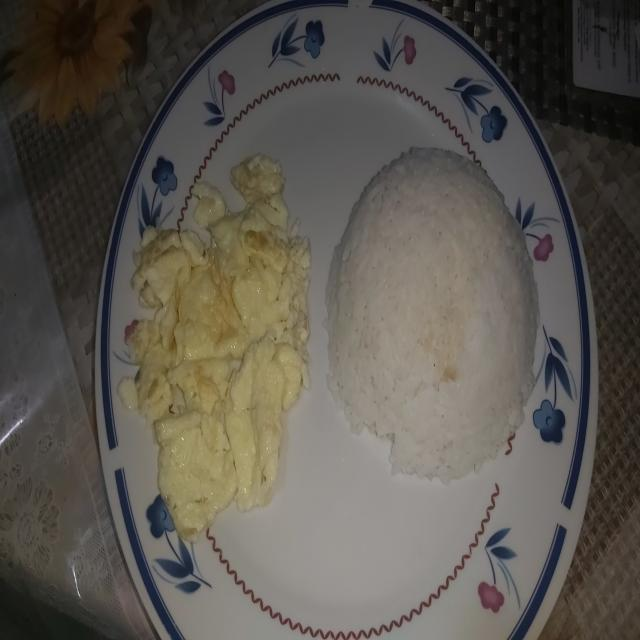Chicken -Chicken Inasal-: (329, 144, 539, 467)
